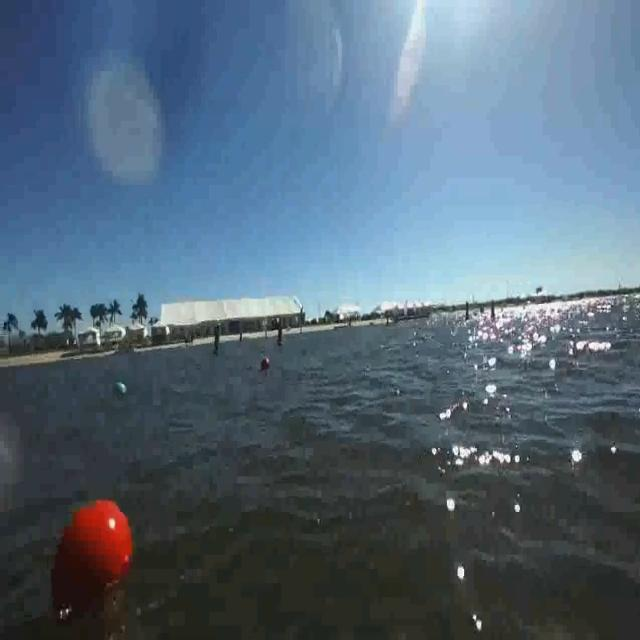green-buoy: (116, 382, 125, 395)
green-column-buoy: (211, 325, 224, 357)
red-buoy: (41, 490, 144, 632), (263, 357, 271, 369)
